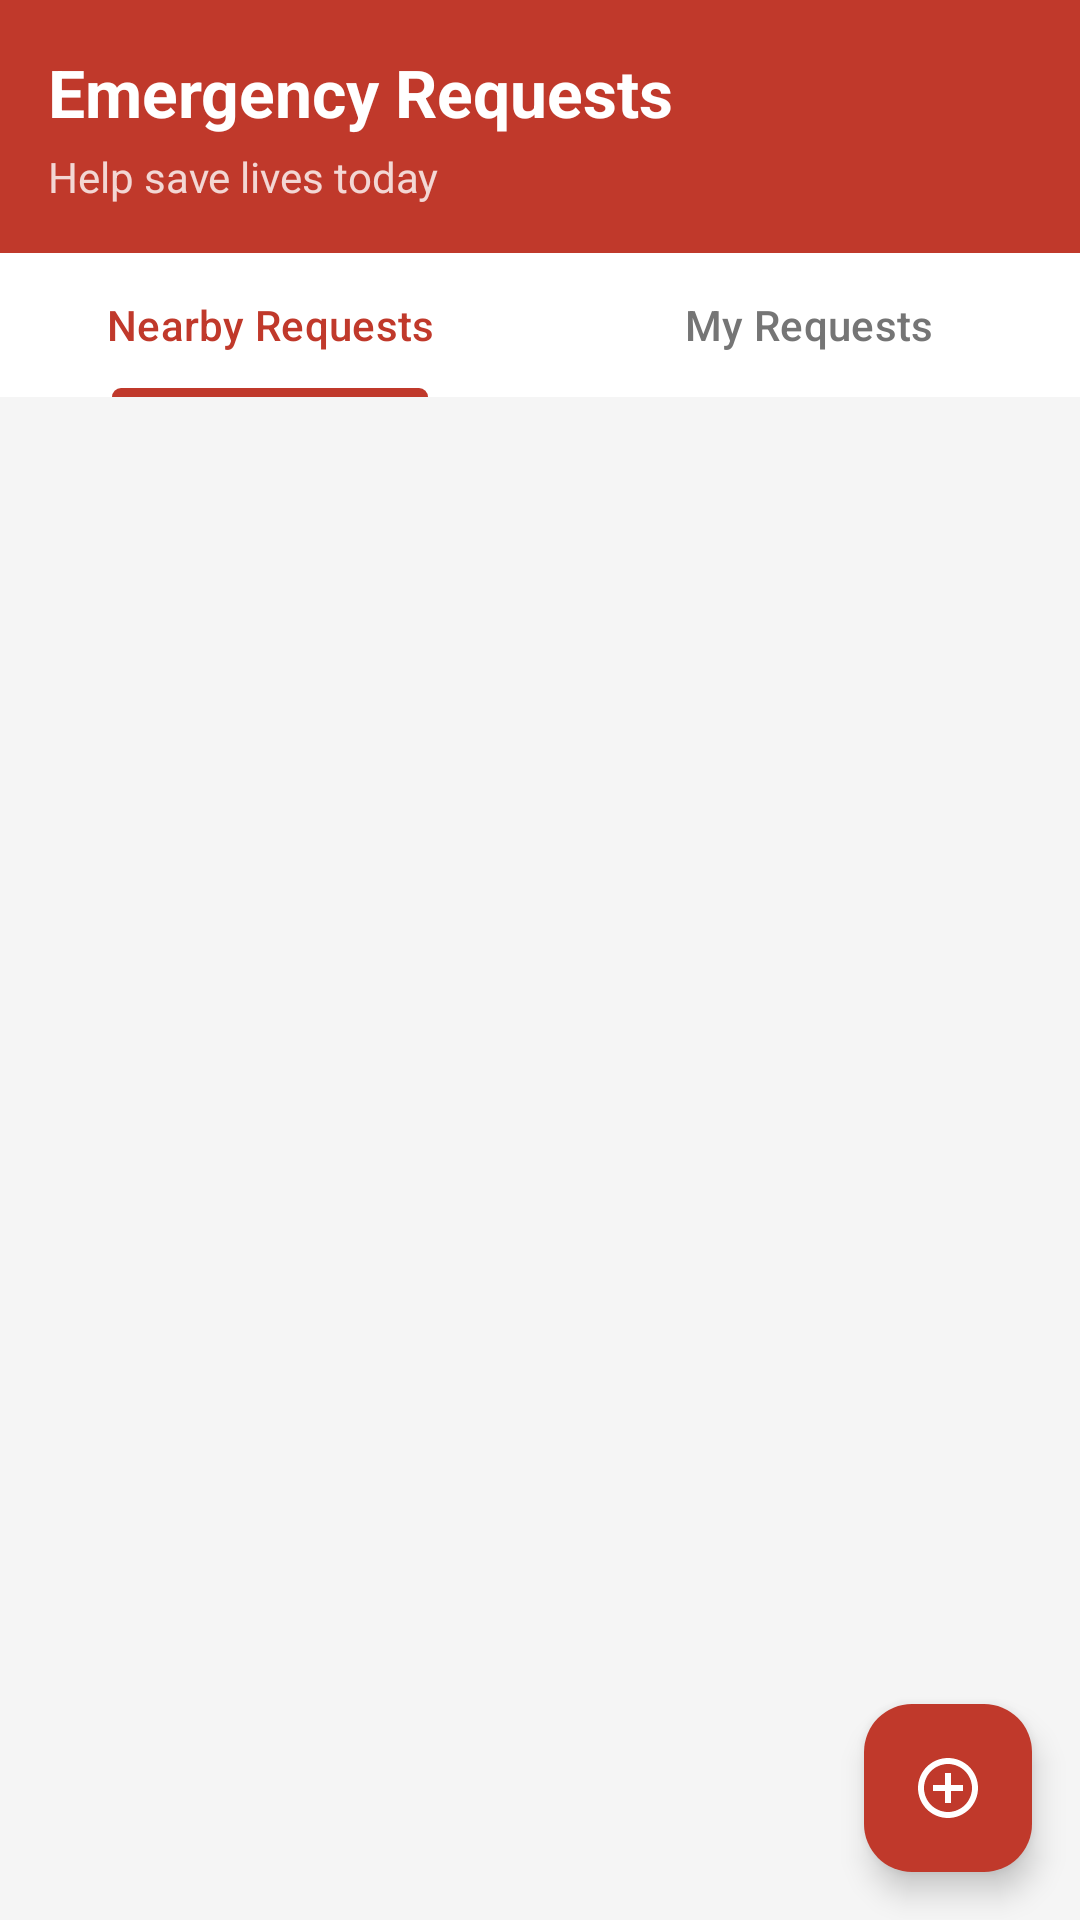

Icons on this 1080 x 1920 Android screen, each with its box as (x1, y1, x2, y2):
Add Request: (864, 1704, 1032, 1872)
